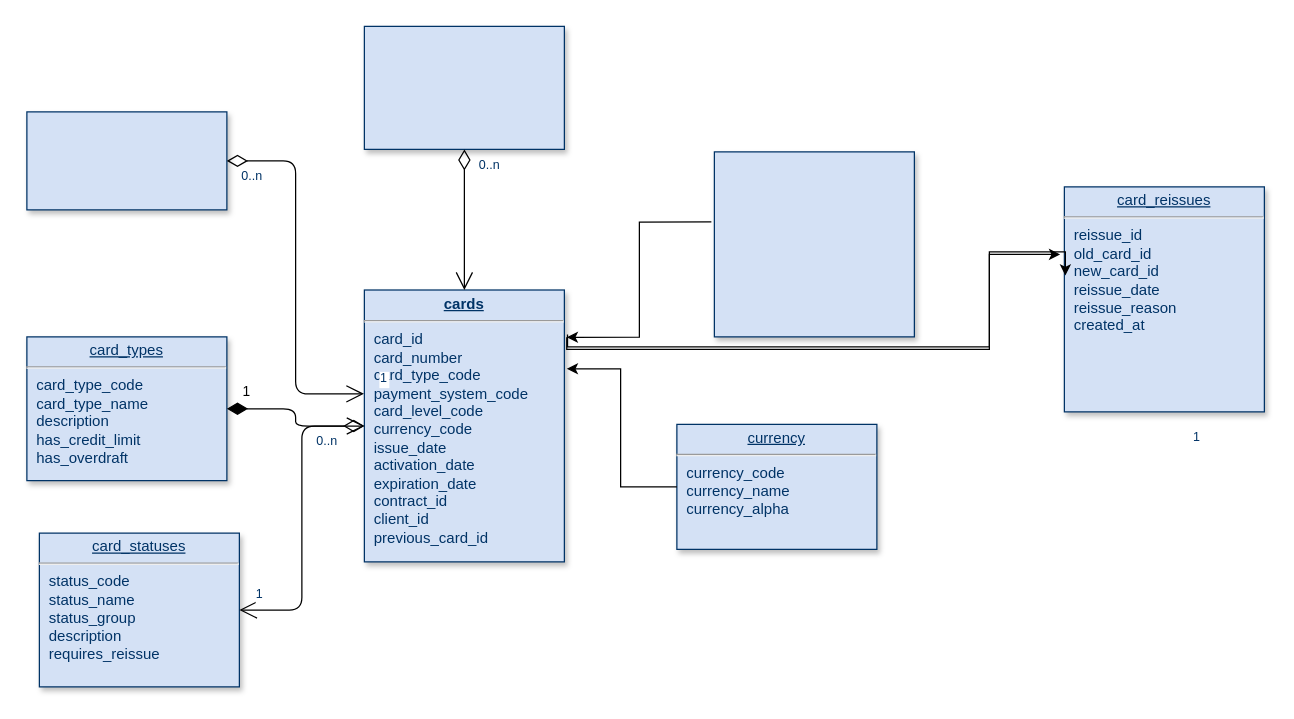
The diagram is 1294 pixels wide and 719 high, and some of its shapes have lost their labels. Here are the shapes that lost their labels. From the top down, the centre of each, then its label:
At pixel 465 89: "card_levels card_level_code card_level_name privilege_level description".
At pixel 127 162: "payment_systems payment_system_code payment_system_name".
At pixel 815 246: "card_states state_id card_id status_code reason_code start_dt end_dt Created_At".
